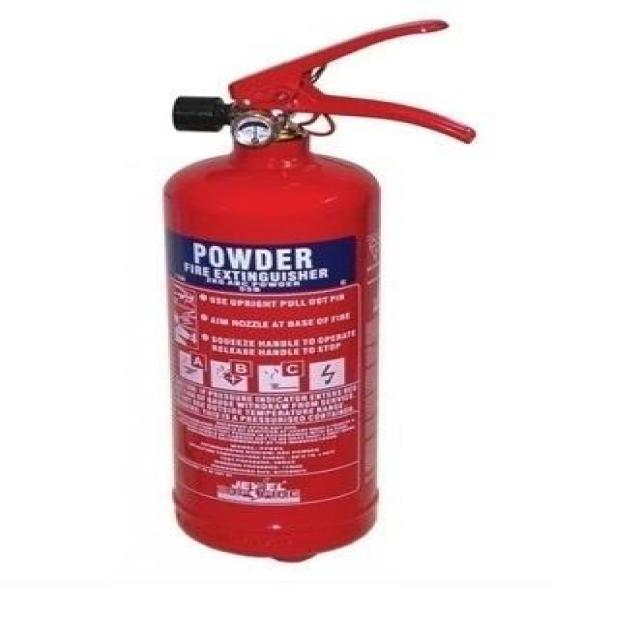fire_extinguisher: (149, 10, 481, 566)
